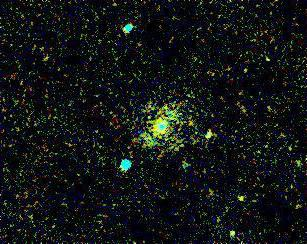star: (224, 183, 254, 213)
